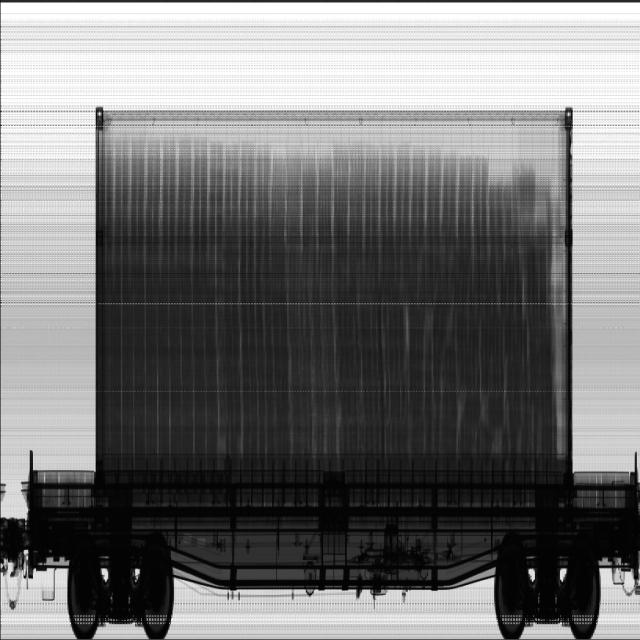clothes: (453, 392, 513, 494)
